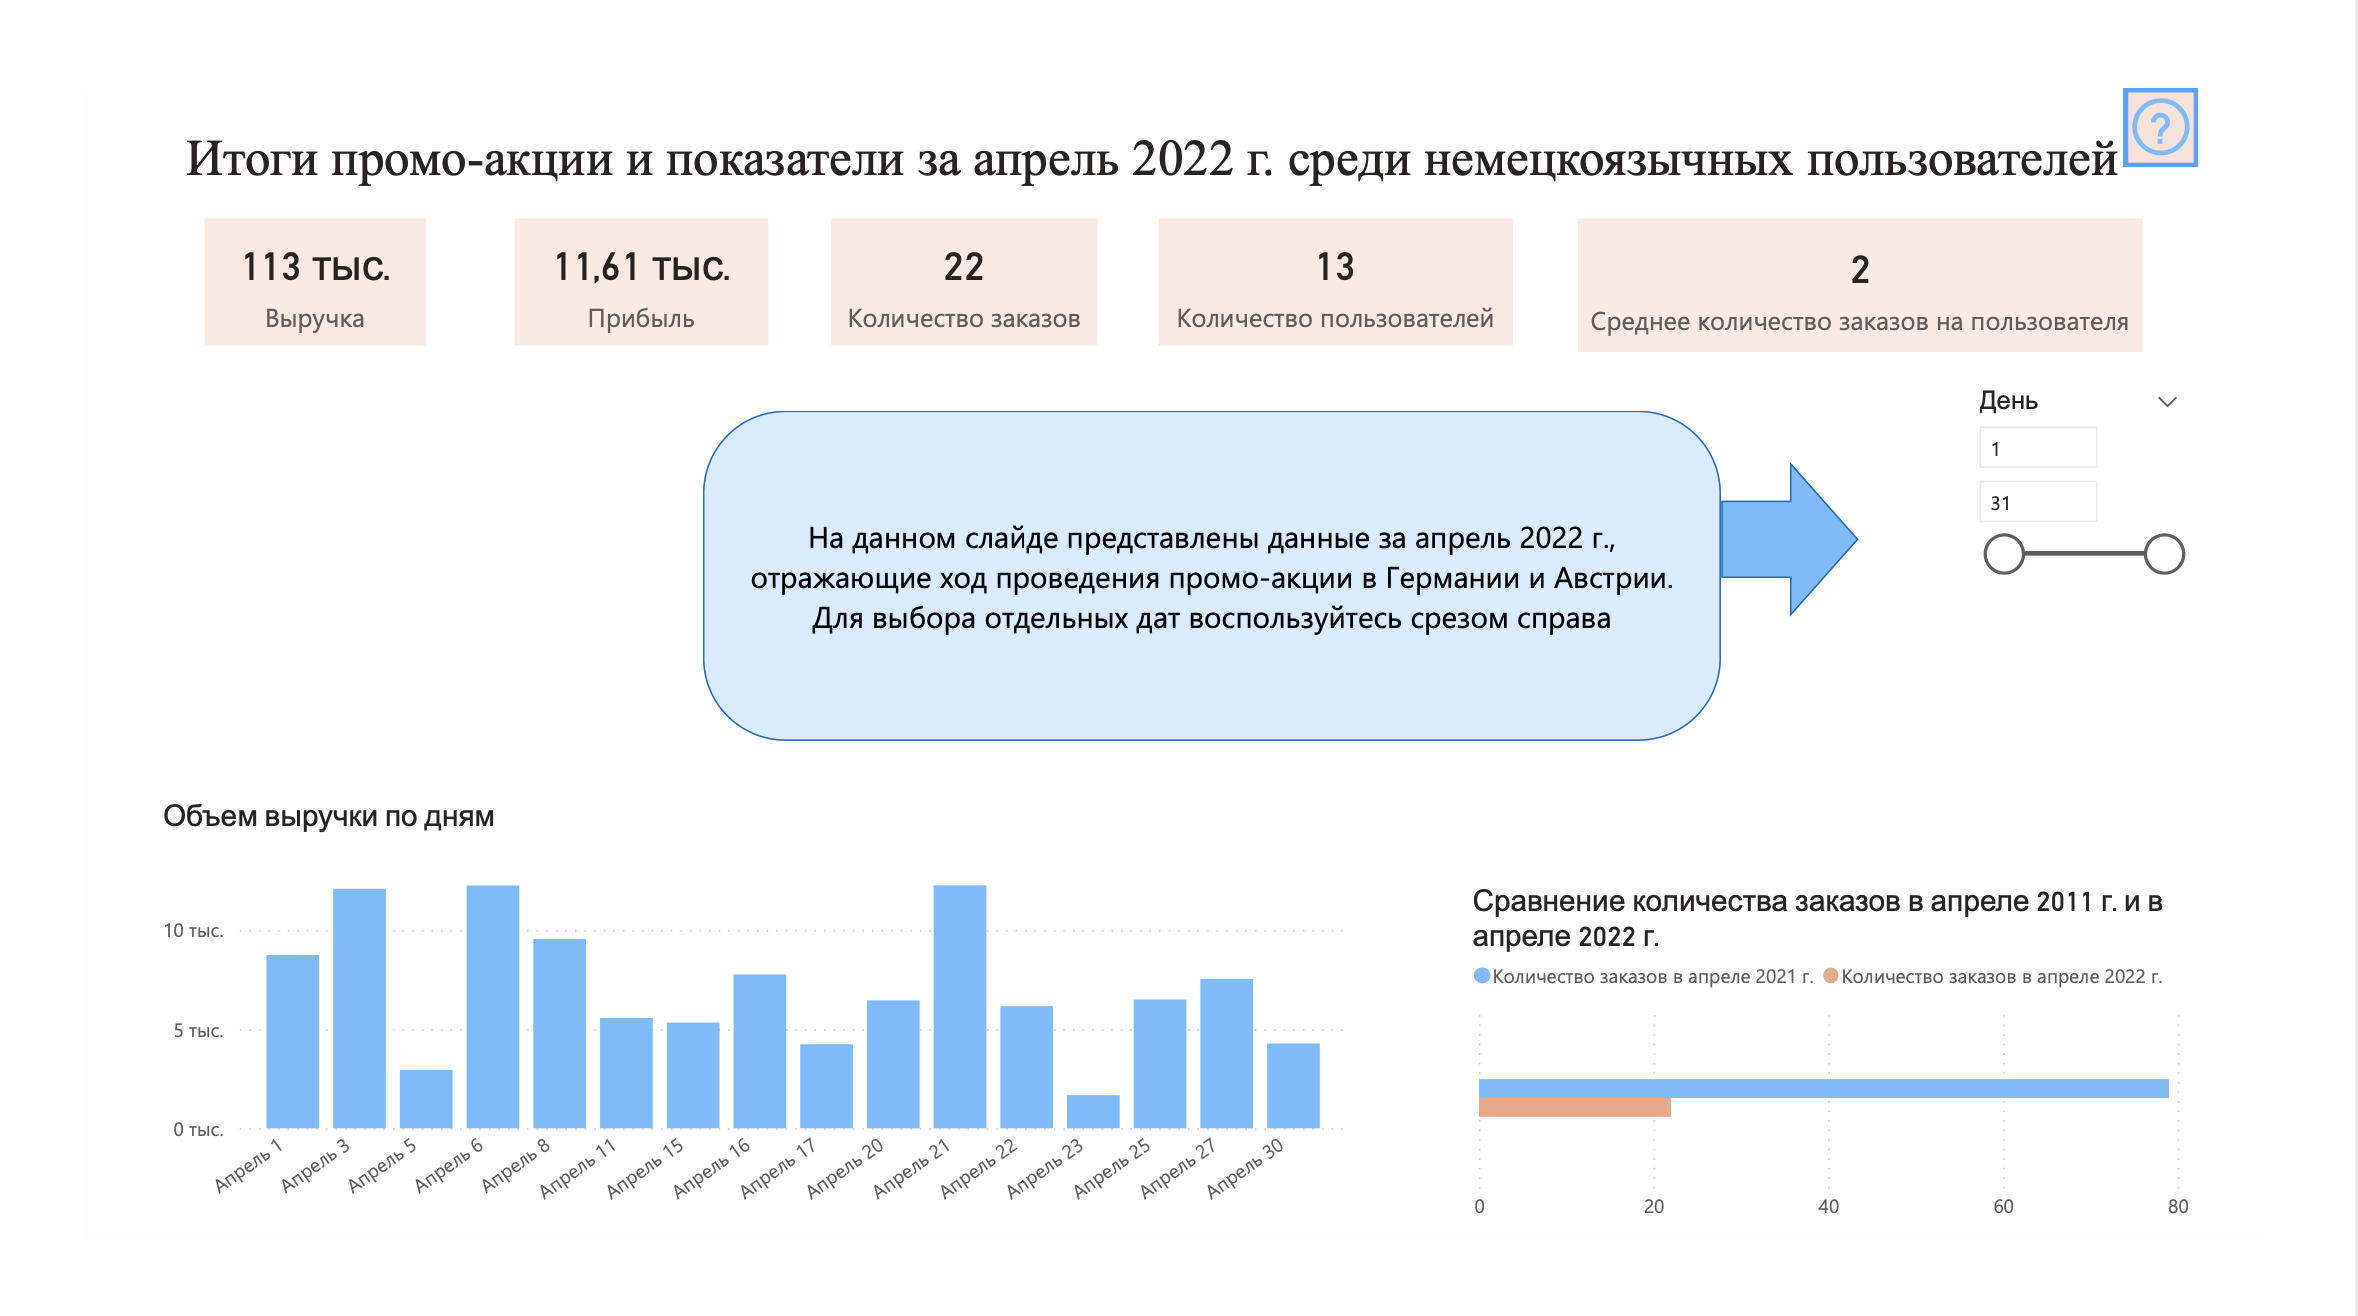

What the dashboard file says about the page in this screenshot:
{"tool":"powerbi","page":{"name":"Промо-акция апр 2022","canvas":[1280,720],"ordinal":0},"visuals":[{"type":"lineClusteredColumnComboChart","title":"Количество заказов и пользователей в апреле 2022 г. в Германии и Австрии","fields":{"Category":["Немцы апрель 2022.created_date.Изменение.Иерархия дат.Месяц","Немцы апрель 2022.created_date.Изменение.Иерархия дат.День"],"Y":["CountNonNull(Немцы апрель 2022.order_id)"],"Y2":["Count(Немцы апрель 2022.user_id)"]},"box":[15.3,182.2,736.5,252.6],"z":0},{"type":"clusteredBarChart","title":"Сравнение количества заказов в апреле 2011 г. и в апреле 2022 г.","fields":{"Y":["Count(Немцы апрель 2021.order_id)","Count(Немцы апрель 2022.order_id)"]},"box":[820.7,499.1,459.3,220.5],"z":1000},{"type":"slicer","fields":{"Values":["Все пользователи.created_date.Изменение.Иерархия дат.День"]},"box":[1130,182.2,150,203.6],"z":2000},{"type":"textbox","box":[14.6,19.4,1229.8,61.6],"z":3000},{"type":"card","fields":{"Values":["Sum(Немцы апрель 2022.commission)"]},"box":[225.1,81.1,159.2,79.6],"z":4000},{"type":"card","fields":{"Values":["Sum(Немцы апрель 2022.transaction_value)"]},"box":[30.6,81.1,139.3,79.6],"z":5000},{"type":"card","fields":{"Values":["Count(Немцы апрель 2022.user_id)"]},"box":[629.3,81.1,222,79.6],"z":6000},{"type":"card","fields":{"Values":["Count(Немцы апрель 2022.order_id)"]},"box":[424.1,81.1,166.9,79.6],"z":7000},{"type":"card","fields":{"Values":["Все пользователи.Среднее количество заказов на пользователя"]},"box":[891.1,81.1,353.7,84.2],"z":8000},{"type":"clusteredColumnChart","title":"Объем выручки по дням","fields":{"Y":["Sum(Немцы апрель 2022.transaction_value)"],"Category":["Все пользователи.created_date.Изменение.Иерархия дат.Месяц","Все пользователи.created_date.Изменение.Иерархия дат.День"]},"box":[0,445.6,751.8,274.1],"z":9000},{"type":"clusteredBarChart","title":"Сравнение  выручки в апреле 2011 г. и в апреле 2022 г.","fields":{"Y":["Sum(Немцы апрель 2021.transaction_value)","Sum(Немцы апрель 2022.transaction_value)"]},"box":[799.4,211.6,320,232],"z":10000},{"type":"actionButton","box":[1233,0,47,50.2],"z":13000}]}

Visuals, with their boxes in screenshot pixels (x1, y1, x2, y2), scaled from the page's 1280x720 canvas onto the 2358x1316 screenshot:
"Количество заказов и пользователей в апреле 2022 г. в Германии и Австрии" lineClusteredColumnComboChart: <bbox>28, 333, 1385, 795</bbox>
"Сравнение количества заказов в апреле 2011 г. и в апреле 2022 г." clusteredBarChart: <bbox>1512, 912, 2357, 1315</bbox>
slicer - Все пользователи.created_date.Изменение.Иерархия дат.День: <bbox>2082, 333, 2357, 705</bbox>
textbox: <bbox>27, 35, 2292, 148</bbox>
card - Sum(Немцы апрель 2022.commission): <bbox>415, 148, 708, 294</bbox>
card - Sum(Немцы апрель 2022.transaction_value): <bbox>56, 148, 313, 294</bbox>
card - Count(Немцы апрель 2022.user_id): <bbox>1159, 148, 1568, 294</bbox>
card - Count(Немцы апрель 2022.order_id): <bbox>781, 148, 1089, 294</bbox>
card - Все пользователи.Среднее количество заказов на пользователя: <bbox>1642, 148, 2293, 302</bbox>
"Объем выручки по дням" clusteredColumnChart: <bbox>0, 814, 1385, 1315</bbox>
"Сравнение  выручки в апреле 2011 г. и в апреле 2022 г." clusteredBarChart: <bbox>1473, 387, 2062, 811</bbox>
actionButton: <bbox>2271, 0, 2357, 92</bbox>
